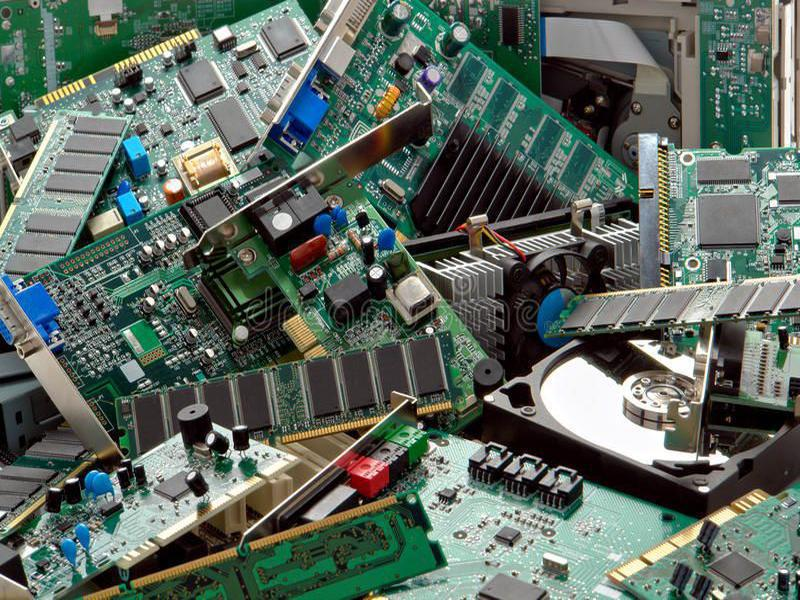circuit_board: (2, 158, 511, 469), (233, 1, 639, 241), (232, 397, 702, 600), (1, 3, 327, 234), (4, 401, 309, 600), (74, 489, 464, 600), (623, 124, 800, 281), (3, 104, 133, 279), (608, 481, 798, 600), (676, 2, 800, 150), (541, 276, 800, 338)
